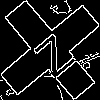Z: (25, 25, 78, 80)
